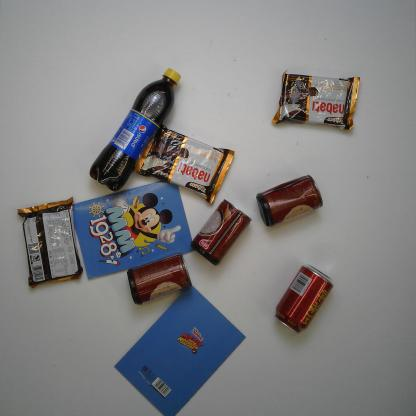Canned Food: (188, 196, 250, 264), (254, 173, 325, 226), (126, 254, 192, 306)
Dessert: (130, 122, 235, 206), (12, 196, 87, 290), (272, 70, 363, 134)
Drink: (82, 68, 182, 192), (267, 262, 335, 336)
Stationery: (112, 284, 245, 416), (70, 176, 195, 280)
